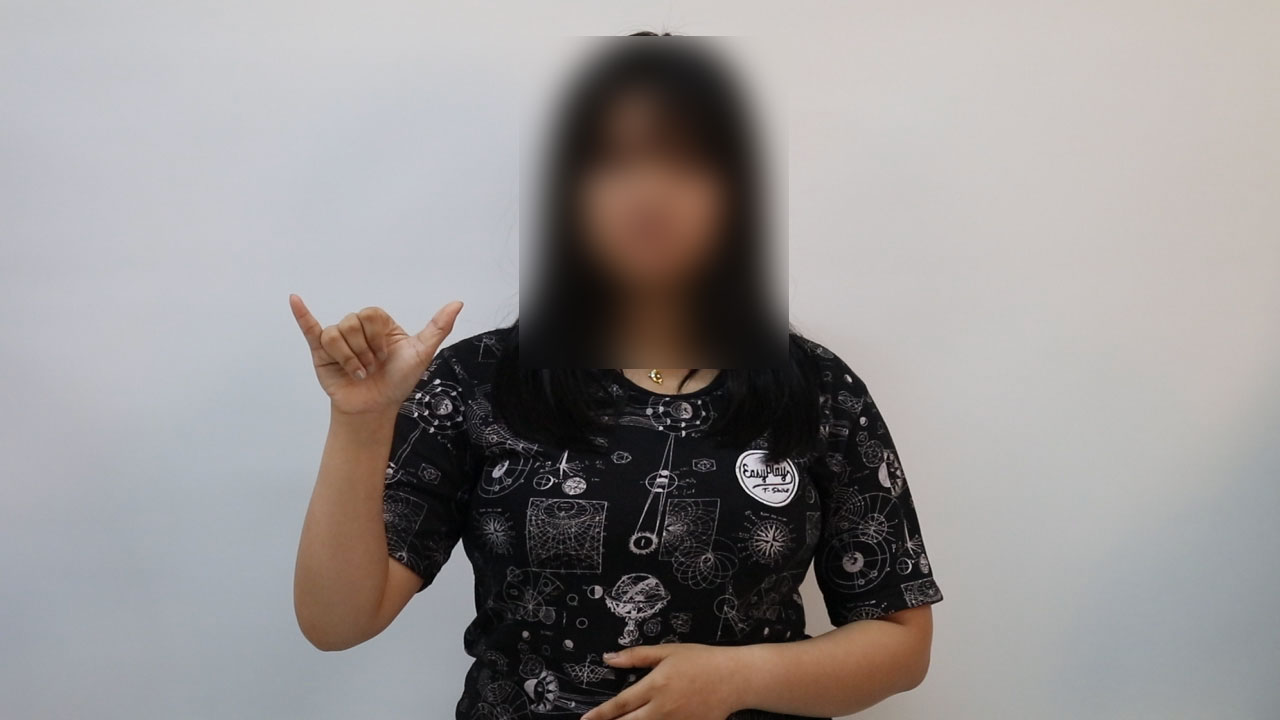yor: (278, 283, 472, 424)
